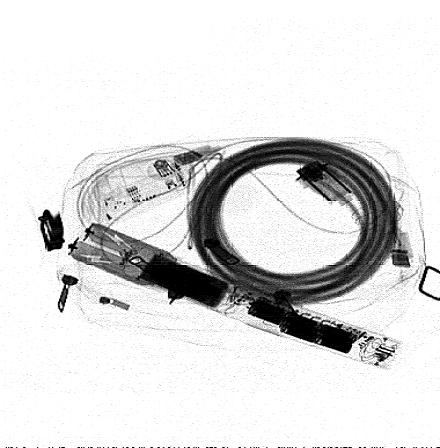Baton: (66, 220, 404, 371)
